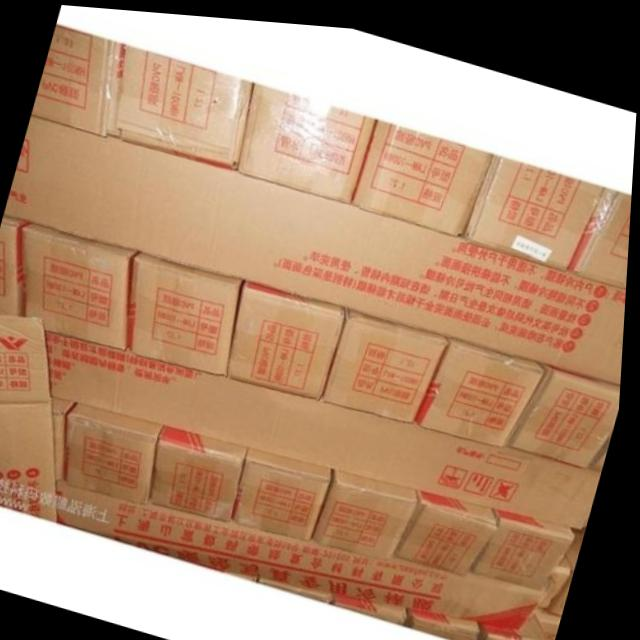box: (6, 113, 629, 374), (47, 329, 606, 520), (59, 478, 551, 625), (113, 44, 254, 165), (238, 80, 378, 197), (352, 114, 494, 228), (465, 147, 605, 261), (25, 221, 144, 347), (131, 248, 249, 374), (327, 302, 452, 419), (419, 329, 550, 439), (230, 277, 349, 394), (0, 312, 63, 521), (510, 354, 625, 458), (33, 24, 125, 135), (69, 401, 169, 499), (153, 422, 254, 518), (236, 440, 337, 535), (318, 461, 423, 552), (401, 482, 502, 569), (476, 500, 581, 579), (571, 176, 633, 277), (218, 564, 341, 597), (0, 214, 33, 315), (480, 604, 556, 640), (54, 394, 82, 480), (413, 605, 488, 636), (337, 589, 416, 617), (545, 543, 578, 601), (555, 561, 580, 605), (542, 600, 567, 640), (594, 420, 617, 462), (570, 518, 591, 562)
